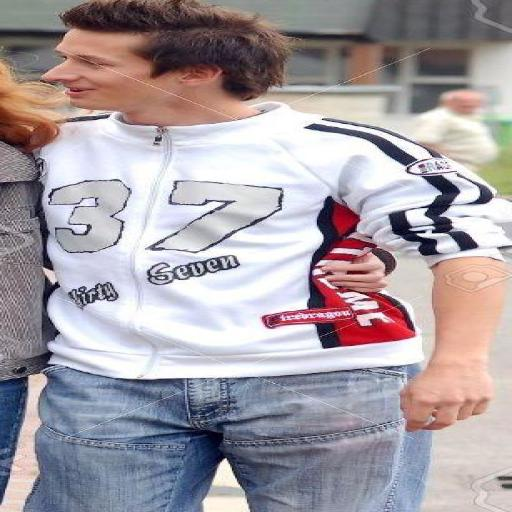person: (26, 0, 510, 511), (0, 61, 63, 502), (412, 90, 498, 171)
